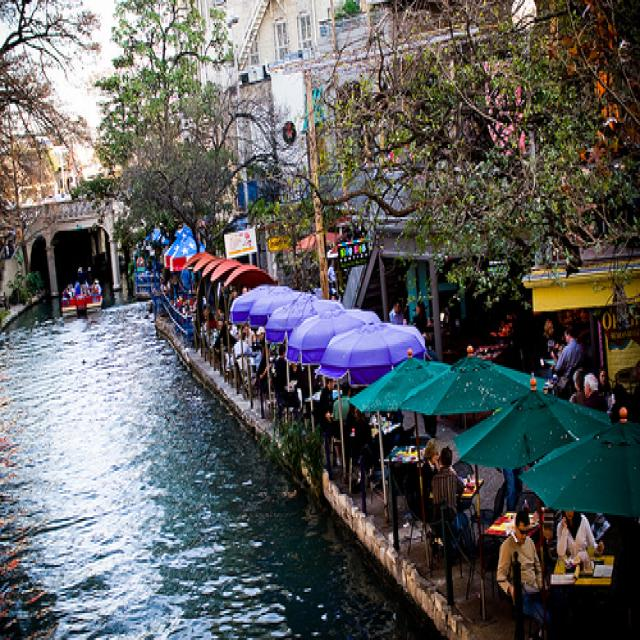chair: (460, 501, 489, 608), (319, 430, 342, 472), (432, 473, 456, 504), (365, 467, 382, 503), (302, 400, 313, 437), (409, 437, 429, 446)
dining table: (550, 555, 612, 585), (484, 511, 541, 537), (384, 442, 427, 466), (369, 414, 401, 442), (614, 366, 640, 393), (463, 479, 484, 499), (306, 391, 342, 402), (544, 354, 559, 369), (239, 350, 260, 360), (251, 358, 261, 364)
